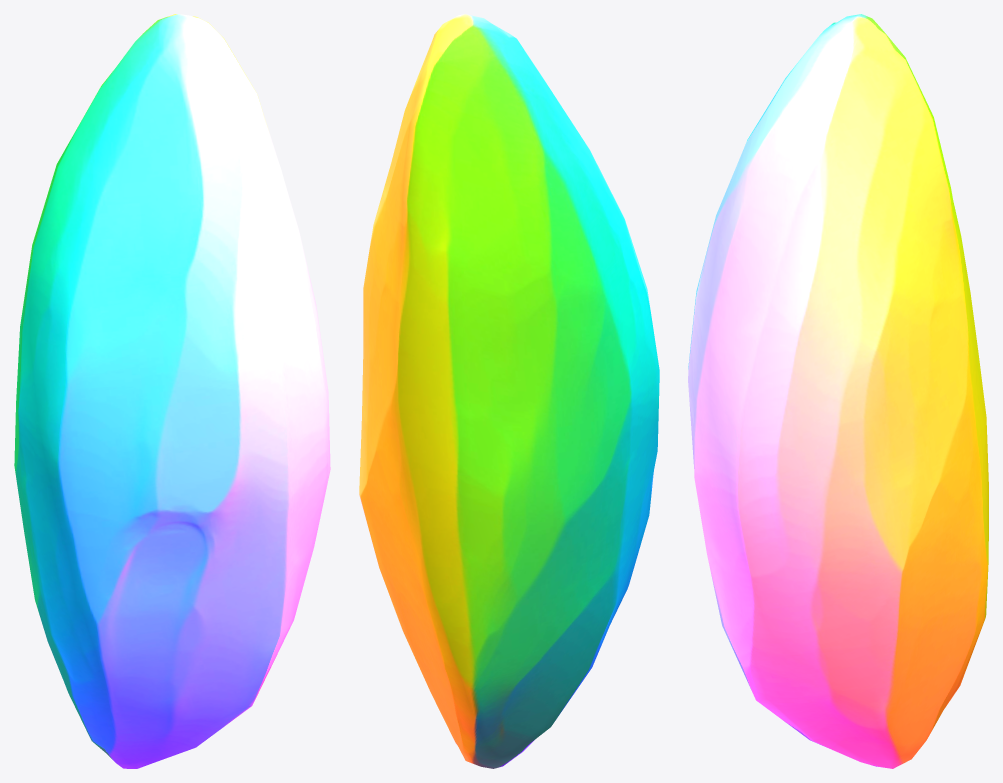
File: crystal.glb
3 renders of one model, left to right at view 1: azimuth 30°, elevation 25°; view 2: azimuth 150°, elevation 25°; view 3: azimuth 270°, elevation 25°, orthographic. The views are drawn at different scales.
Visible parts, largest first — view 1: Crystall_001_lp; view 2: Crystall_001_lp; view 3: Crystall_001_lp.
Boxes of the visible parts, box(x1,y1,x2,y2) form: Crystall_001_lp: box(14, 14, 330, 768); Crystall_001_lp: box(359, 14, 659, 768); Crystall_001_lp: box(688, 14, 988, 768).
Bounding box in the file's own units: 0.7628 × 2 × 0.7121.
1 material, 1 textured.
